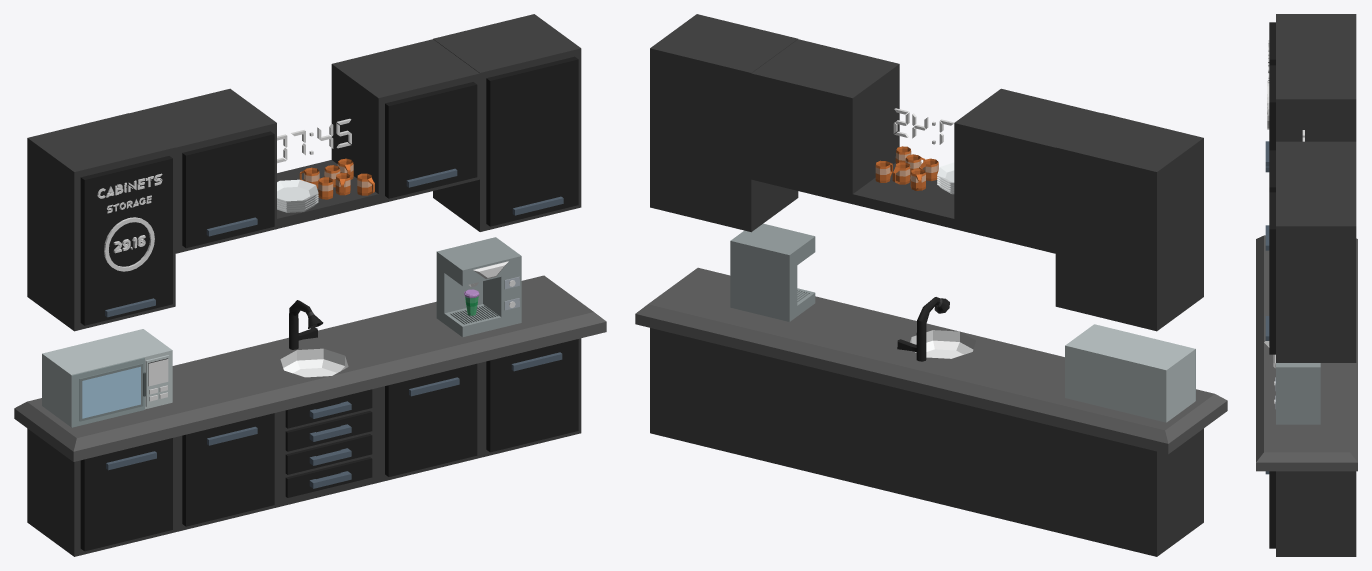
Rendered from Kitchen-Cupboard.fbx.
3 views of the same model, side by side, from view 1: azimuth 30°, elevation 25°; view 2: azimuth 150°, elevation 25°; view 3: azimuth 270°, elevation 25° (orthographic). The views are drawn at different scales.
Parts seen in each view (by area): view 1: Kitchen-Cupboard, Kitchen-Countertop, Microwave-Oven, Coffee-Machine, Tap, Plate-1, Clock; view 2: Kitchen-Cupboard, Kitchen-Countertop, Microwave-Oven, Coffee-Machine, Tap; view 3: Kitchen-Cupboard, Kitchen-Countertop, Coffee-Machine.
Part boxes in pixels (x1=…): Kitchen-Cupboard: x1=27, y1=14, x2=581, y2=556; Kitchen-Countertop: x1=14, y1=275, x2=606, y2=461; Microwave-Oven: x1=42, y1=329, x2=172, y2=427; Coffee-Machine: x1=436, y1=237, x2=521, y2=337; Tap: x1=289, y1=300, x2=323, y2=349; Plate-1: x1=277, y1=179, x2=318, y2=203; Clock: x1=277, y1=118, x2=351, y2=163; Kitchen-Cupboard: x1=650, y1=14, x2=1203, y2=556; Kitchen-Countertop: x1=635, y1=267, x2=1227, y2=454; Microwave-Oven: x1=1065, y1=324, x2=1195, y2=422; Coffee-Machine: x1=730, y1=223, x2=815, y2=321; Tap: x1=897, y1=297, x2=949, y2=361; Kitchen-Cupboard: x1=1265, y1=14, x2=1356, y2=556; Kitchen-Countertop: x1=1256, y1=235, x2=1357, y2=471; Coffee-Machine: x1=1273, y1=354, x2=1320, y2=424.
Bounding box in the file's own units: 5.26 × 3.63 × 1.01.
